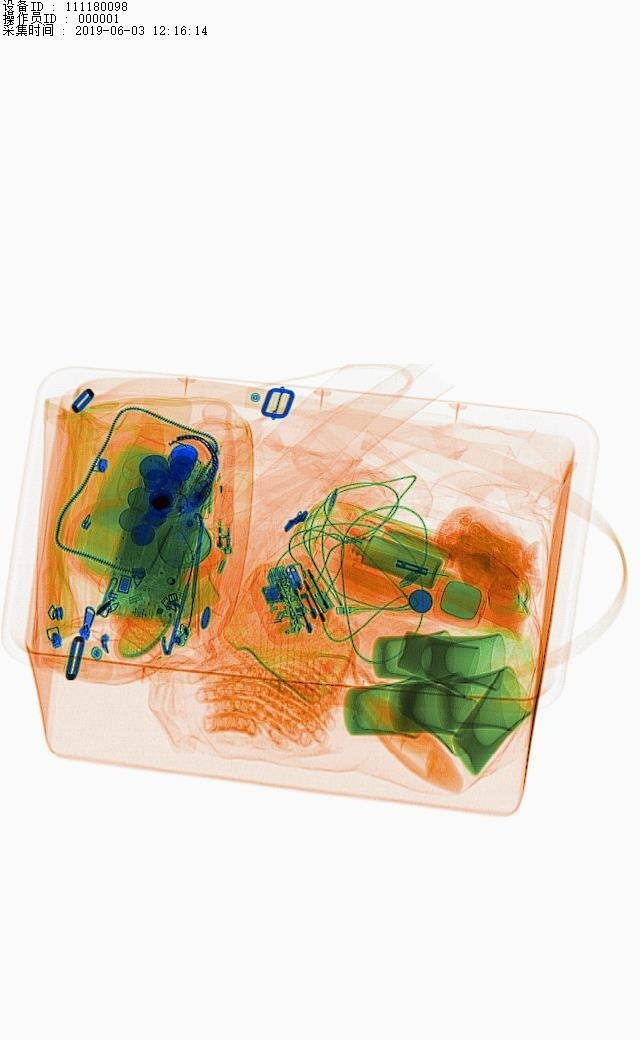NonmetallicFire: (201, 447, 253, 566)
